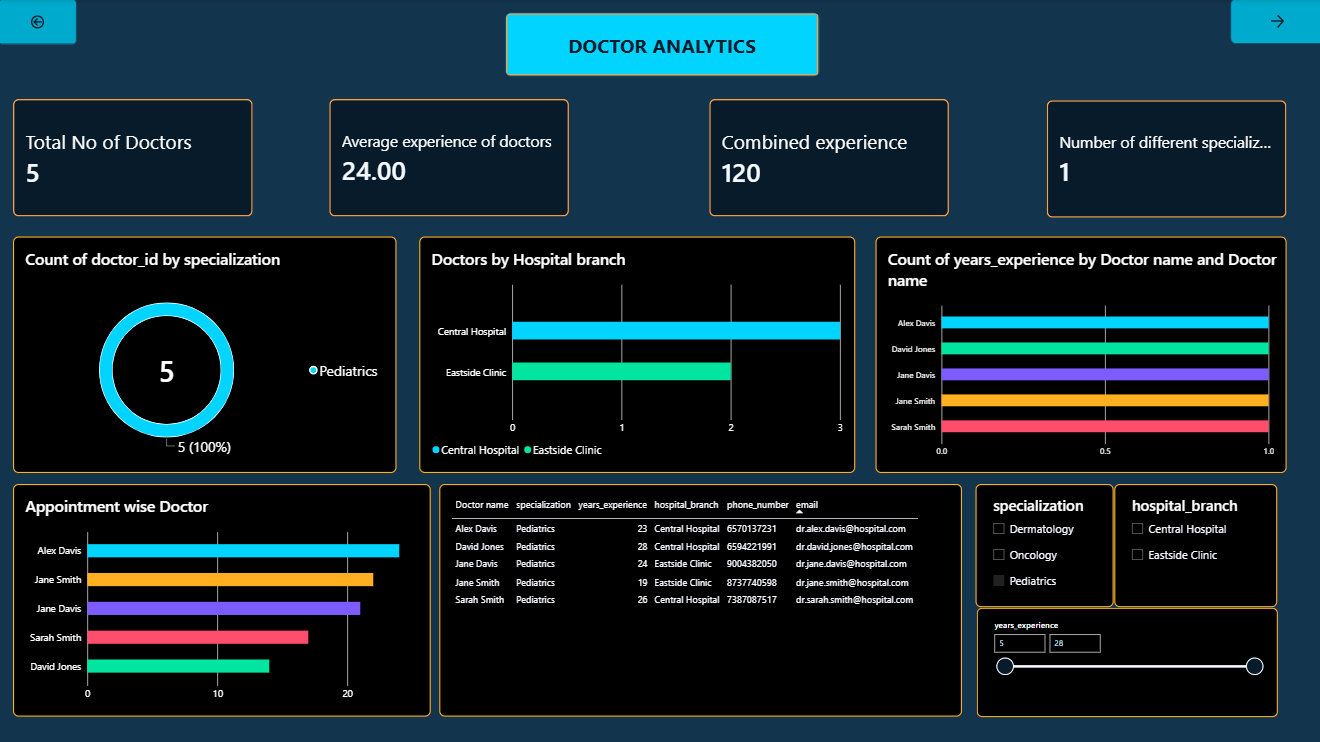

Layout of this report page (visuals, bound fields, positions):
{"tool":"powerbi","page":{"name":"Doctor","canvas":[1920,1080],"ordinal":2},"visuals":[{"type":"cardVisual","fields":{"Data":["Count(healthcare_db doctors.doctor_id)"]},"box":[21.7,144.8,347.5,170],"z":0},{"type":"cardVisual","fields":{"Data":["Avg(healthcare_db doctors.years_experience)"]},"box":[479.6,144.8,347.5,170],"z":1000},{"type":"cardVisual","fields":{"Data":["Sum(healthcare_db doctors.years_experience)"]},"box":[1030,144,347.5,170],"z":2000},{"type":"cardVisual","fields":{"Data":["Count(healthcare_db doctors.specialization)"]},"box":[1518,146,347.5,170],"z":3000},{"type":"shape","box":[735,20,454,92],"z":4000},{"type":"donutChart","fields":{"Category":["healthcare_db doctors.specialization"],"Y":["CountNonNull(healthcare_db doctors.doctor_id)"]},"box":[21.7,343.8,555.6,342],"z":5000},{"type":"barChart","title":"Doctors by Hospital branch","fields":{"Category":["healthcare_db doctors.hospital_branch"],"Series":["healthcare_db doctors.hospital_branch"],"Y":["CountNonNull(healthcare_db doctors.doctor_id)"]},"box":[609.9,343.8,631.6,342],"z":6000},{"type":"barChart","fields":{"Category":["healthcare_db doctors.Doctor name"],"Series":["healthcare_db doctors.Doctor name"],"Y":["CountNonNull(healthcare_db doctors.years_experience)"]},"box":[1270.4,343.8,595.4,342],"z":7000},{"type":"barChart","title":"Appointment wise Doctor","fields":{"Category":["healthcare_db doctors.Doctor name"],"Series":["healthcare_db doctors.Doctor name"],"Y":["CountNonNull(healthcare_db appointments.appointment_id)"]},"box":[21.7,702.1,604.4,336.6],"z":8000},{"type":"tableEx","fields":{"Values":["healthcare_db doctors.Doctor name","healthcare_db doctors.specialization","healthcare_db doctors.years_experience","healthcare_db doctors.hospital_branch","healthcare_db doctors.phone_number","healthcare_db doctors.email"]},"box":[638.8,702.1,756.4,336.6],"z":9000},{"type":"actionButton","box":[0,0,114,66],"z":10000},{"type":"slicer","fields":{"Values":["healthcare_db doctors.specialization"]},"box":[1416,702,200,178],"z":11000},{"type":"slicer","fields":{"Values":["healthcare_db doctors.hospital_branch"]},"box":[1616,702,236,178],"z":12000},{"type":"slicer","fields":{"Values":["healthcare_db doctors.years_experience"]},"box":[1417,881.3,436,158],"z":13000},{"type":"actionButton","box":[1785,0,135,65],"z":14000}]}

Visuals, with their boxes in screenshot pixels (x1, y1, x2, y2), scaled from the page's 1920x1080 canvas onto the 1320x742 screenshot:
cardVisual - Count(healthcare_db doctors.doctor_id): {"left": 15, "top": 99, "right": 254, "bottom": 216}
cardVisual - Avg(healthcare_db doctors.years_experience): {"left": 330, "top": 99, "right": 569, "bottom": 216}
cardVisual - Sum(healthcare_db doctors.years_experience): {"left": 708, "top": 99, "right": 947, "bottom": 216}
cardVisual - Count(healthcare_db doctors.specialization): {"left": 1044, "top": 100, "right": 1283, "bottom": 217}
shape: {"left": 505, "top": 14, "right": 817, "bottom": 77}
donutChart - healthcare_db doctors.specialization x CountNonNull(healthcare_db doctors.doctor_id): {"left": 15, "top": 236, "right": 397, "bottom": 471}
"Doctors by Hospital branch" barChart: {"left": 419, "top": 236, "right": 854, "bottom": 471}
barChart - healthcare_db doctors.Doctor name x healthcare_db doctors.Doctor name: {"left": 873, "top": 236, "right": 1283, "bottom": 471}
"Appointment wise Doctor" barChart: {"left": 15, "top": 482, "right": 430, "bottom": 714}
tableEx - healthcare_db doctors.Doctor name x healthcare_db doctors.specialization: {"left": 439, "top": 482, "right": 959, "bottom": 714}
actionButton: {"left": 0, "top": 0, "right": 78, "bottom": 45}
slicer - healthcare_db doctors.specialization: {"left": 974, "top": 482, "right": 1111, "bottom": 605}
slicer - healthcare_db doctors.hospital_branch: {"left": 1111, "top": 482, "right": 1273, "bottom": 605}
slicer - healthcare_db doctors.years_experience: {"left": 974, "top": 605, "right": 1274, "bottom": 714}
actionButton: {"left": 1227, "top": 0, "right": 1319, "bottom": 45}
